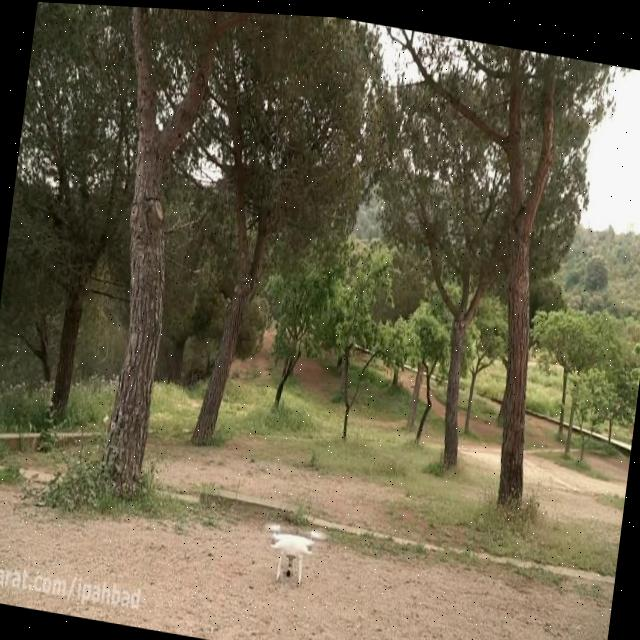drone: (254, 512, 332, 590)
